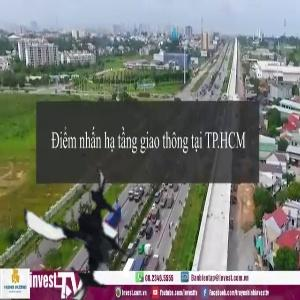drone: (6, 158, 148, 300)
